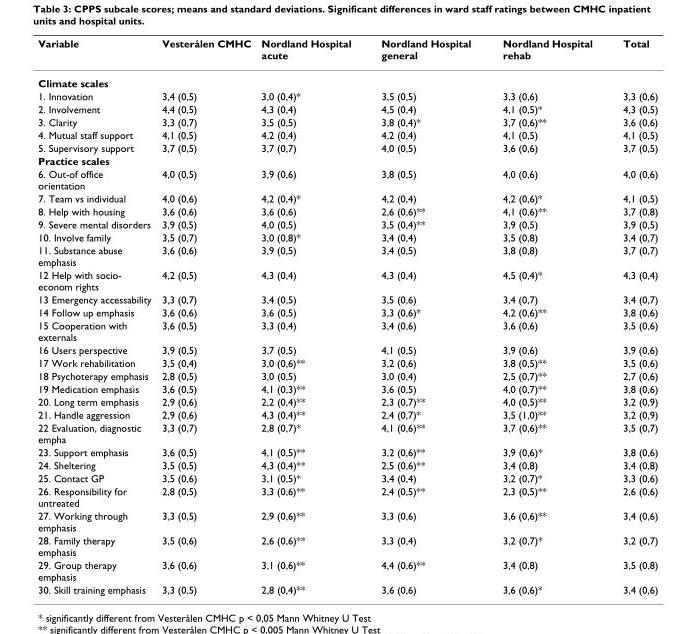table: (37, 36, 657, 595)
table column: (365, 36, 486, 595), (486, 36, 607, 595), (37, 36, 155, 595), (255, 36, 365, 595), (155, 36, 255, 595), (607, 36, 657, 595)
table column header: (37, 36, 657, 68)
table projected row header: (37, 68, 657, 89), (37, 153, 657, 166)
table row: (37, 36, 657, 68), (37, 166, 657, 191), (37, 243, 657, 268), (37, 318, 657, 343), (37, 420, 657, 445), (37, 508, 657, 533), (37, 533, 657, 558), (37, 268, 657, 292), (37, 484, 657, 508), (37, 558, 657, 582), (37, 68, 657, 89), (37, 89, 657, 102), (37, 102, 657, 115), (37, 115, 657, 128), (37, 128, 657, 141), (37, 153, 657, 166), (37, 191, 657, 204), (37, 204, 657, 217), (37, 217, 657, 230), (37, 230, 657, 243), (37, 292, 657, 305), (37, 305, 657, 318), (37, 343, 657, 356), (37, 356, 657, 369), (37, 381, 657, 394), (37, 394, 657, 407), (37, 407, 657, 420), (37, 445, 657, 458), (37, 458, 657, 471), (37, 471, 657, 484), (37, 582, 657, 595), (37, 141, 657, 153), (37, 369, 657, 381)
